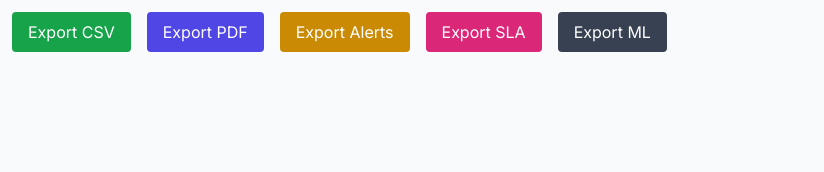
Scenario: ExportButtons › shows error if ML export fails
The image size is (824, 172).
Click the button "Export ML".
click(612, 32)  # box 558,12 -> 667,52
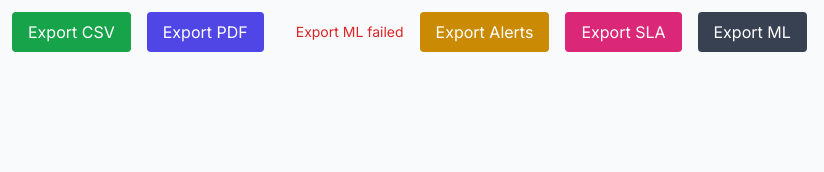
Now the text "Export ML failed" is shown, box 296,22 -> 404,42
